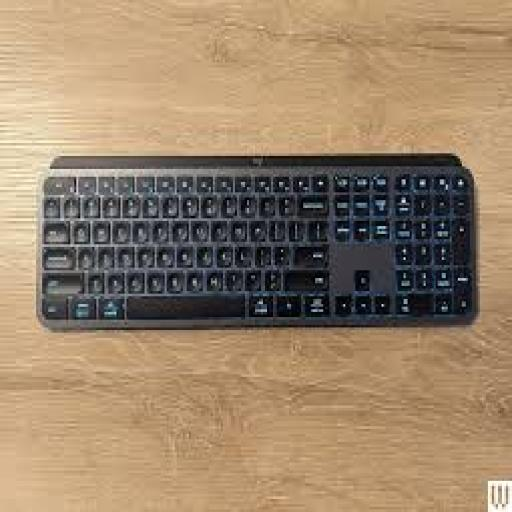keyboard: (36, 153, 478, 327)
